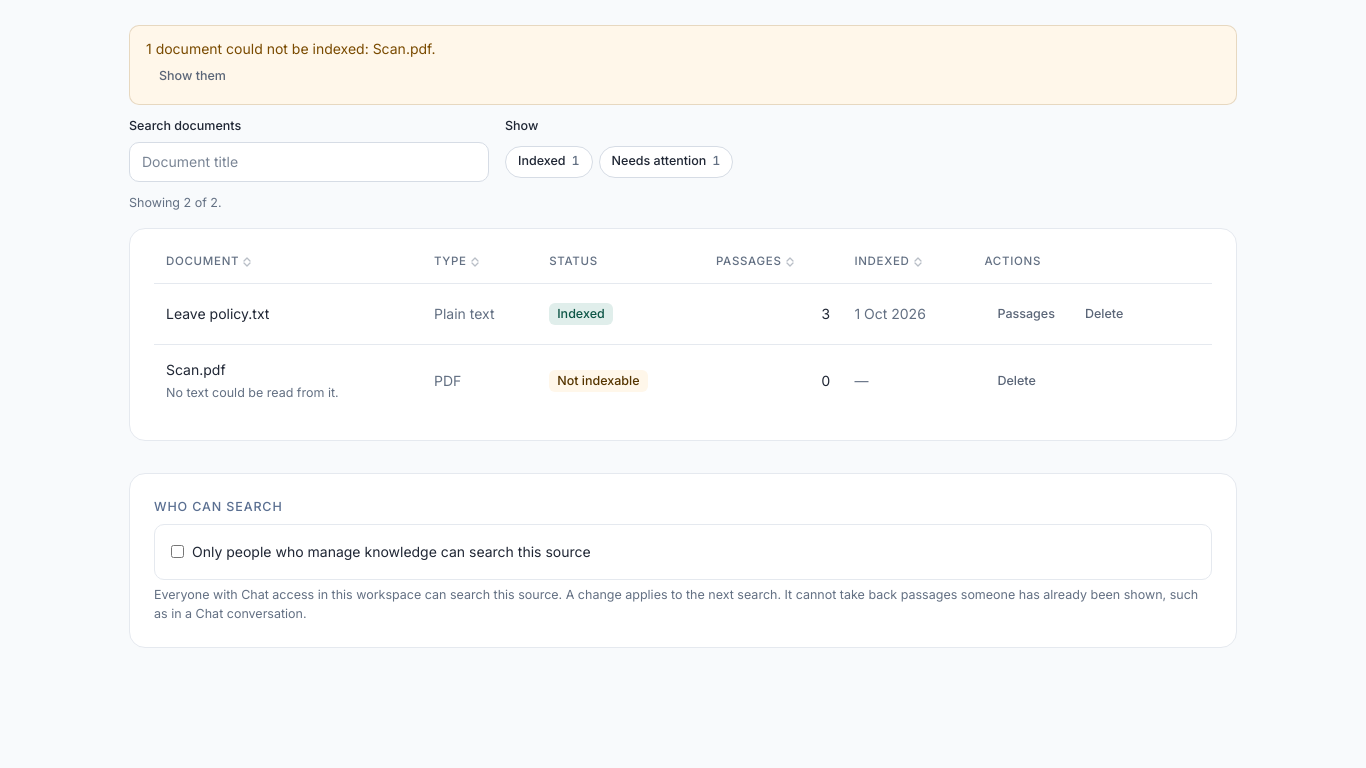
Test: who can search a source › restricts the source when the box is ticked, and says what that means
The image size is (1366, 768).
(page scrolled)
Check: the text "Leave policy.txt" is shown, box [166, 305, 269, 322]
Click the checkbox labelled "Only people who manage knowledge can search this source": (178,552) [171, 545, 184, 558]
(page scrolled)
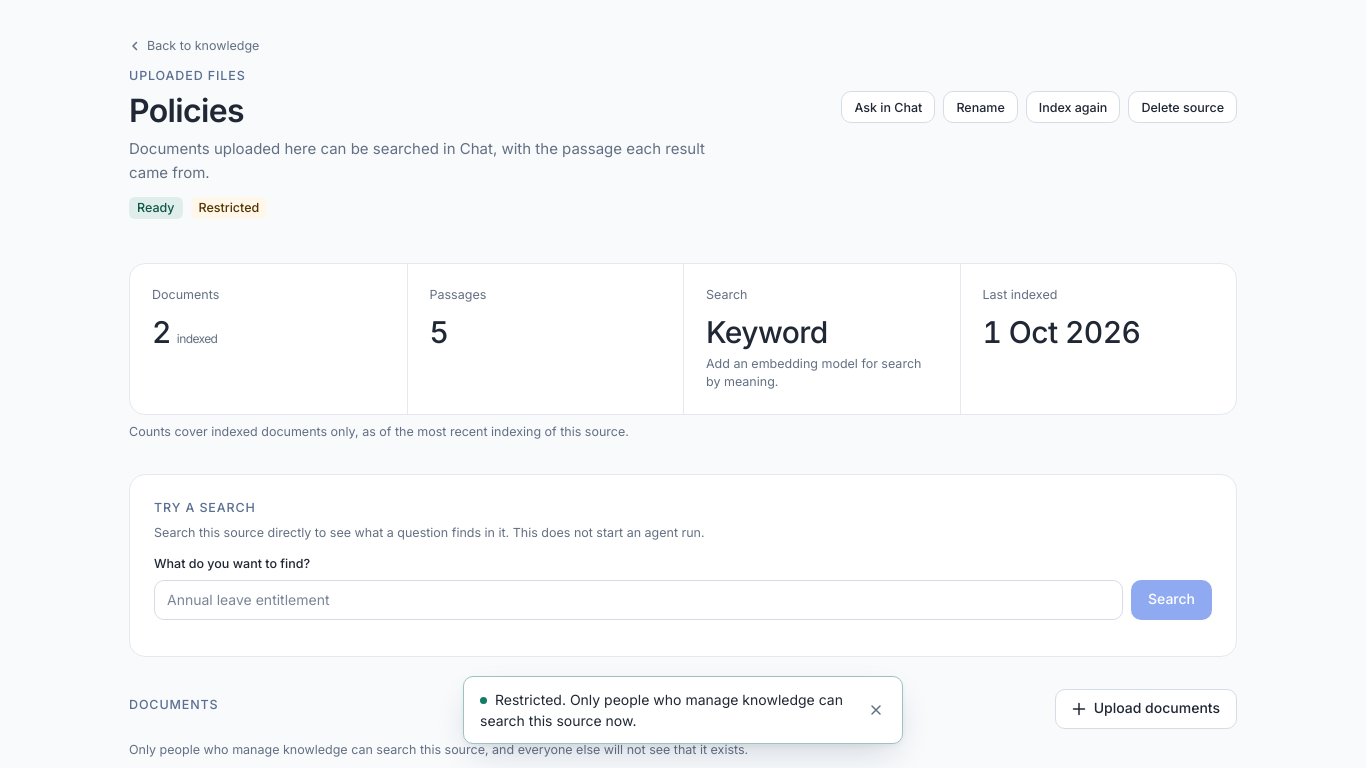
Check: the text "Restricted. Only people who manage knowledge can search this source now." is shown, box [480, 689, 854, 731]
Check: the text "Restricted" is shown, box [198, 199, 259, 217]
